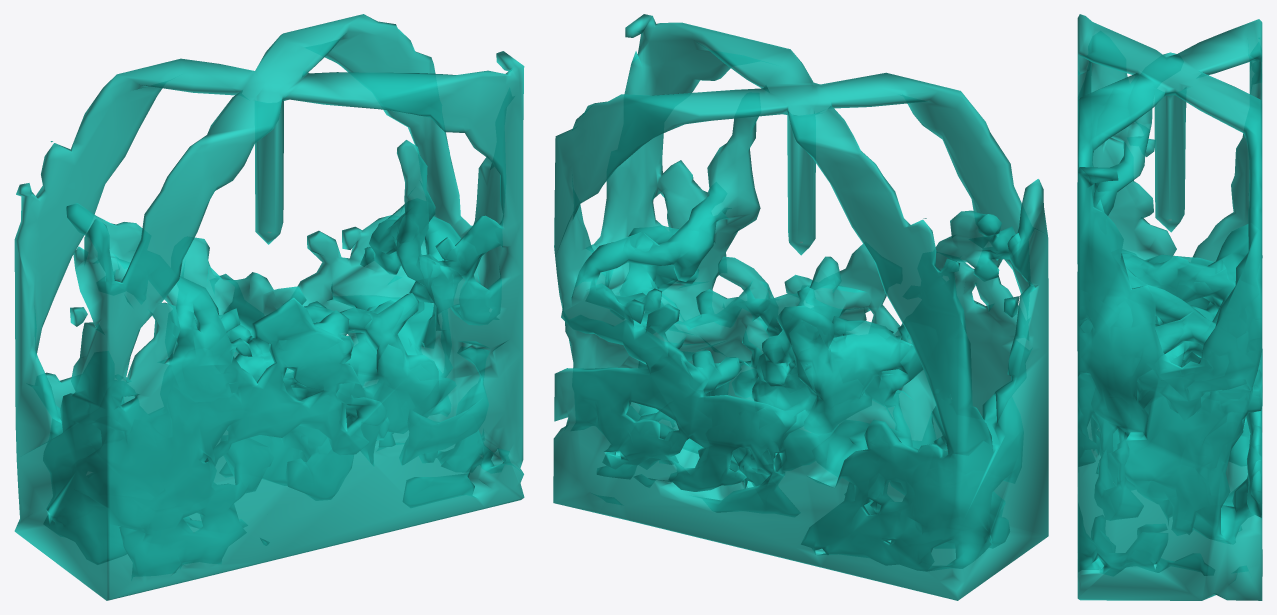
3 renders of one model, left to right at view 1: azimuth 30°, elevation 25°; view 2: azimuth 150°, elevation 25°; view 3: azimuth 270°, elevation 25°, orthographic. The views are drawn at different scales.
Visible parts, largest first — view 1: Liquid_Domain; view 2: Liquid_Domain; view 3: Liquid_Domain.
Part boxes in pixels (x1,y1,x2,y2): Liquid_Domain: (14,14,524,600); Liquid_Domain: (553,14,1048,600); Liquid_Domain: (1077,14,1262,600).
Bounding box in the file's own units: 1965 × 1965 × 766.
